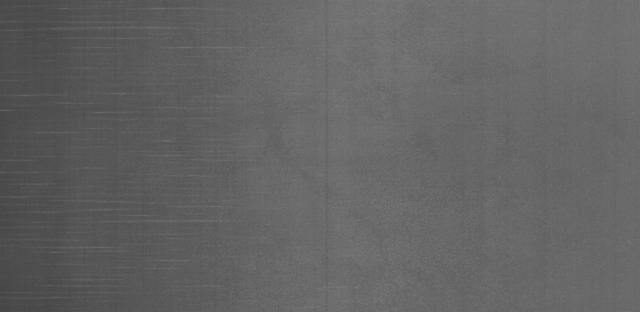waist_folding: (15, 23, 266, 312)
